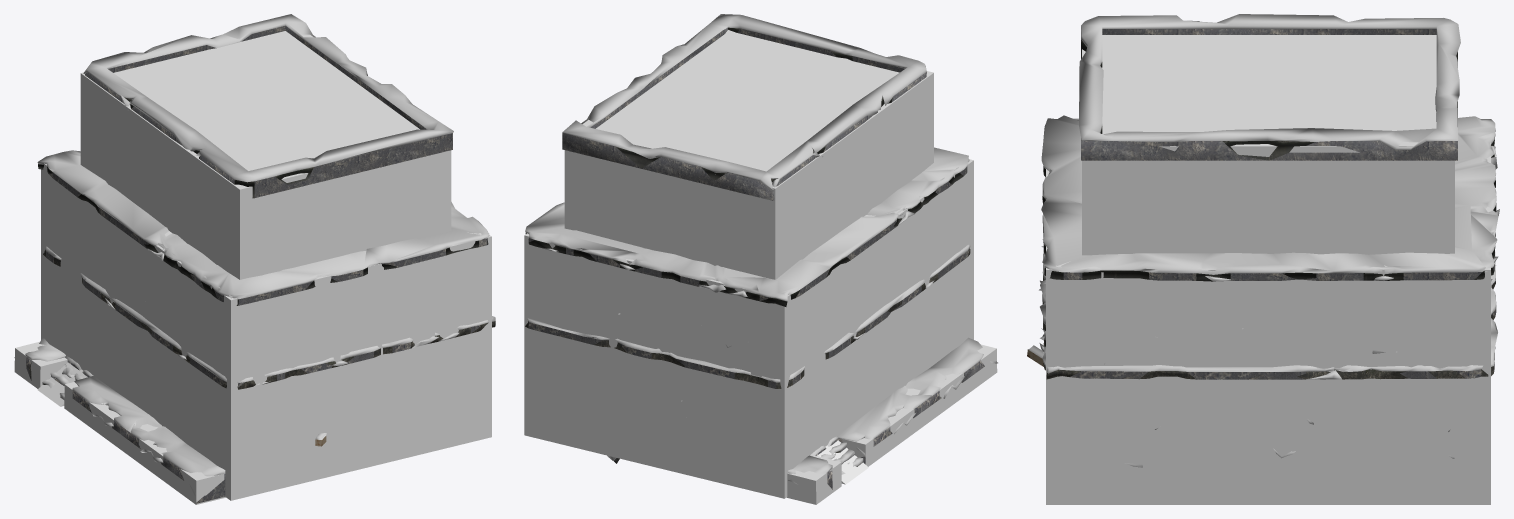
The model's file is House-Type05.fbx.
3 renders of one model, left to right at view 1: azimuth 30°, elevation 25°; view 2: azimuth 150°, elevation 25°; view 3: azimuth 270°, elevation 25°, orthographic. The views are drawn at different scales.
Visible parts, largest first — view 1: House-Type05_col, snow, House-Type05; view 2: House-Type05_col, snow, House-Type05; view 3: House-Type05_col, snow, House-Type05.
Part boxes in pixels (x1=…): House-Type05_col: x1=14, y1=31, x2=491, y2=504; snow: x1=14, y1=14, x2=495, y2=495; House-Type05: x1=26, y1=25, x2=495, y2=503; House-Type05_col: x1=524, y1=30, x2=997, y2=504; snow: x1=525, y1=14, x2=997, y2=484; House-Type05: x1=525, y1=27, x2=984, y2=489; House-Type05_col: x1=1046, y1=35, x2=1490, y2=504; snow: x1=1028, y1=14, x2=1499, y2=467; House-Type05: x1=1027, y1=29, x2=1496, y2=379.
Bounding box in the file's own units: 521 × 522 × 604.
